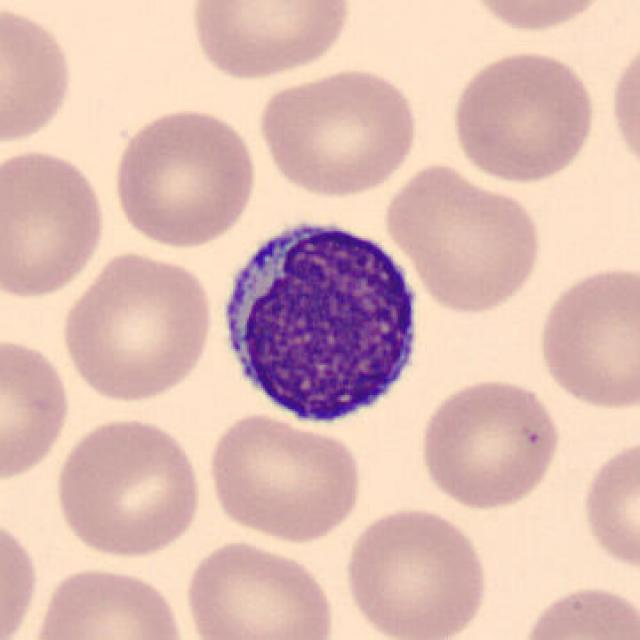Lymphocyte: (206, 204, 427, 433)
RBC: (380, 160, 546, 318), (55, 247, 217, 405), (253, 64, 422, 200), (52, 412, 206, 560), (108, 104, 260, 250), (203, 411, 366, 545), (446, 44, 599, 185), (340, 502, 492, 640), (414, 374, 564, 513), (0, 145, 110, 303), (180, 536, 340, 640), (534, 261, 638, 414), (185, 0, 357, 83), (27, 562, 190, 640), (0, 0, 78, 152), (0, 333, 73, 487), (578, 432, 640, 576), (518, 582, 638, 640), (458, 0, 615, 35), (0, 508, 41, 640), (606, 34, 640, 182)
